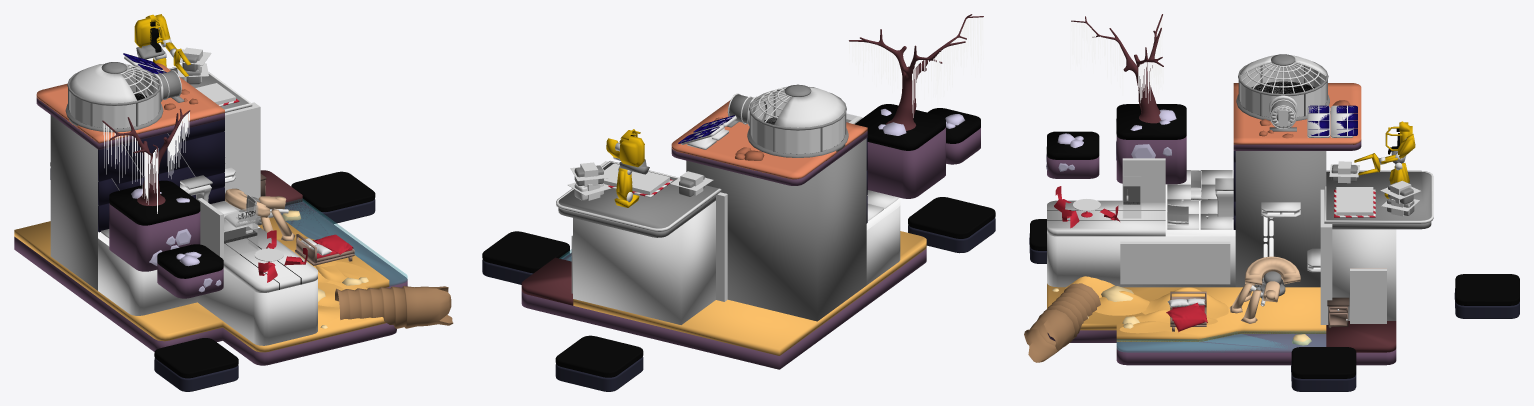
3 renders of one model, left to right at view 1: azimuth 30°, elevation 25°; view 2: azimuth 150°, elevation 25°; view 3: azimuth 270°, elevation 25°, orthographic. The views are drawn at different scales.
Visible parts, largest first — view 1: Plane.006, Plane, Plane.008, Plane.002, Plane.085, Circle.007, Plane.100, Plane.011, Plane.005, Cube.037, Plane.103, Plane.088 (+25 smaller); view 2: Plane.008, Plane.004, Plane.002, Plane, Plane.011, Plane.102, Plane.088, Plane.100, Plane.049, Vert.006, Plane.103, Plane.012 (+20 smaller); view 3: Plane.008, Plane.002, Plane, Plane.032, Plane.006, Plane.004, Plane.005, Plane.017, Circle.007, Plane.088, Plane.103, Plane.102 (+36 smaller).
Boxes of the visible parts, x1=… form: Plane.006: x1=98, y1=238, x2=317, y2=345; Plane: x1=14, y1=201, x2=407, y2=365; Plane.008: x1=50, y1=115, x2=195, y2=290; Plane.002: x1=14, y1=217, x2=389, y2=352; Plane.085: x1=98, y1=119, x2=224, y2=232; Circle.007: x1=335, y1=286, x2=453, y2=328; Plane.100: x1=154, y1=338, x2=238, y2=391; Plane.011: x1=109, y1=203, x2=200, y2=271; Plane.005: x1=223, y1=227, x2=317, y2=292; Cube.037: x1=224, y1=102, x2=260, y2=210; Plane.103: x1=291, y1=171, x2=375, y2=223; Plane.088: x1=36, y1=63, x2=224, y2=143; Plane.008: x1=686, y1=138, x2=866, y2=321; Plane.004: x1=573, y1=200, x2=715, y2=324; Plane.002: x1=573, y1=231, x2=926, y2=355; Plane: x1=521, y1=248, x2=926, y2=369; Plane.011: x1=867, y1=127, x2=945, y2=198; Plane.102: x1=555, y1=335, x2=643, y2=391; Plane.088: x1=671, y1=100, x2=867, y2=179; Plane.100: x1=908, y1=197, x2=995, y2=253; Plane.049: x1=558, y1=162, x2=718, y2=228; Vert.006: x1=849, y1=17, x2=983, y2=117; Plane.103: x1=482, y1=231, x2=569, y2=284; Plane.012: x1=855, y1=104, x2=945, y2=150; Plane.008: x1=1235, y1=151, x2=1326, y2=287; Plane.002: x1=1047, y1=283, x2=1326, y2=341; Plane: x1=1047, y1=330, x2=1396, y2=365; Plane.032: x1=1120, y1=241, x2=1230, y2=284; Plane.006: x1=1047, y1=233, x2=1235, y2=287; Plane.004: x1=1332, y1=229, x2=1396, y2=320; Plane.005: x1=1047, y1=200, x2=1165, y2=236; Plane.017: x1=1117, y1=331, x2=1325, y2=352; Circle.007: x1=1024, y1=283, x2=1100, y2=362; Plane.088: x1=1233, y1=83, x2=1361, y2=144; Plane.103: x1=1291, y1=347, x2=1356, y2=391; Plane.102: x1=1454, y1=274, x2=1519, y2=318.
Bounding box in the file's own units: 10.94 × 6.97 × 14.19.
